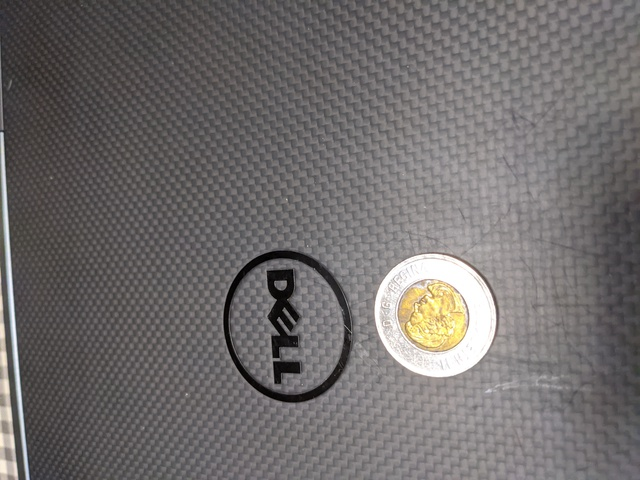twonie: (361, 239, 502, 377)
